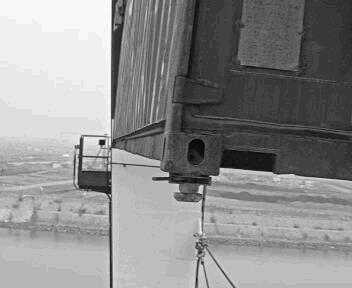twist_lock_1: (161, 170, 217, 209)
